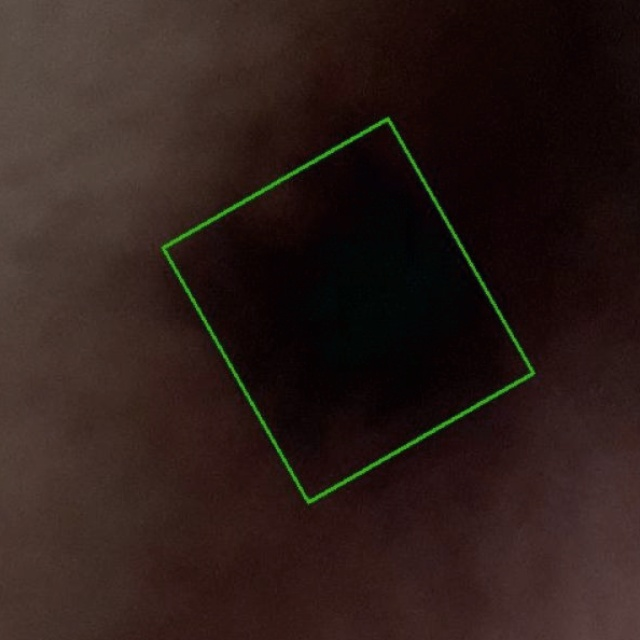Contact Dermatitis: (162, 117, 533, 501)
